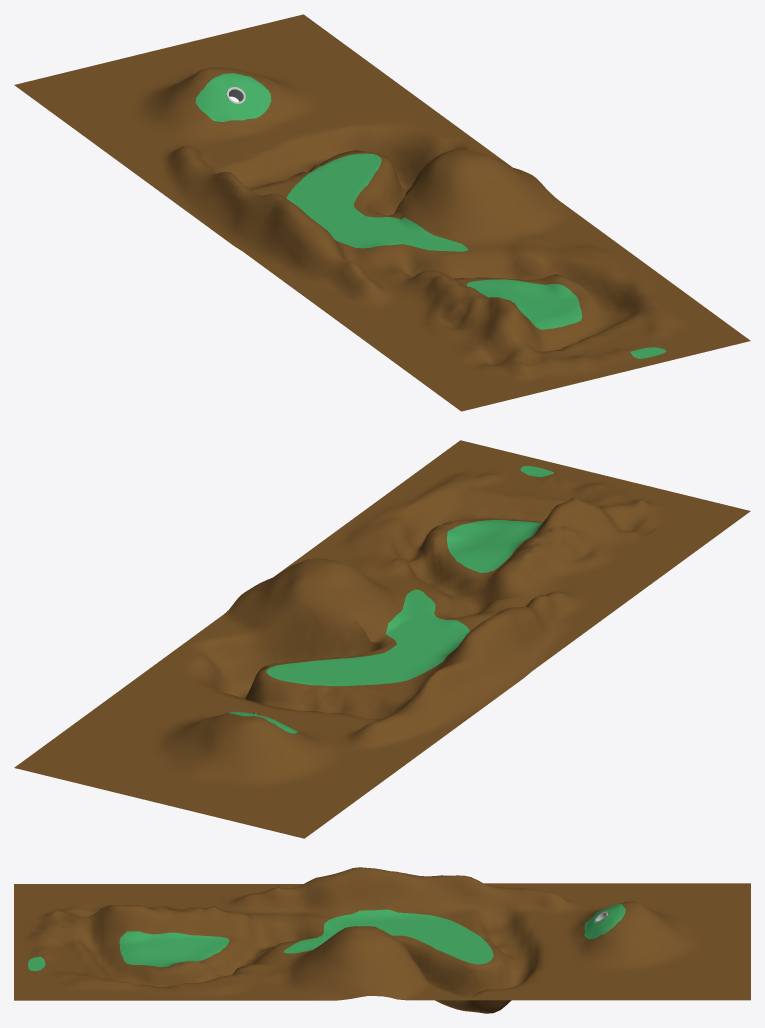
The model's file is hole008.fbx.
3 views of the same model, one above another, from view 1: azimuth 30°, elevation 25°; view 2: azimuth 150°, elevation 25°; view 3: azimuth 270°, elevation 25° (orthographic). The views are drawn at different scales.
Parts seen in each view (by area): view 1: pasted__pPipe2; view 2: pasted__pPipe2; view 3: pasted__pPipe2.
Boxes of the visible parts, x1,y1,x2,y2 form: pasted__pPipe2: [14, 14, 750, 411]; pasted__pPipe2: [14, 440, 750, 838]; pasted__pPipe2: [14, 867, 750, 1013].
Bounding box in the file's own units: 301 × 92.09 × 801.
